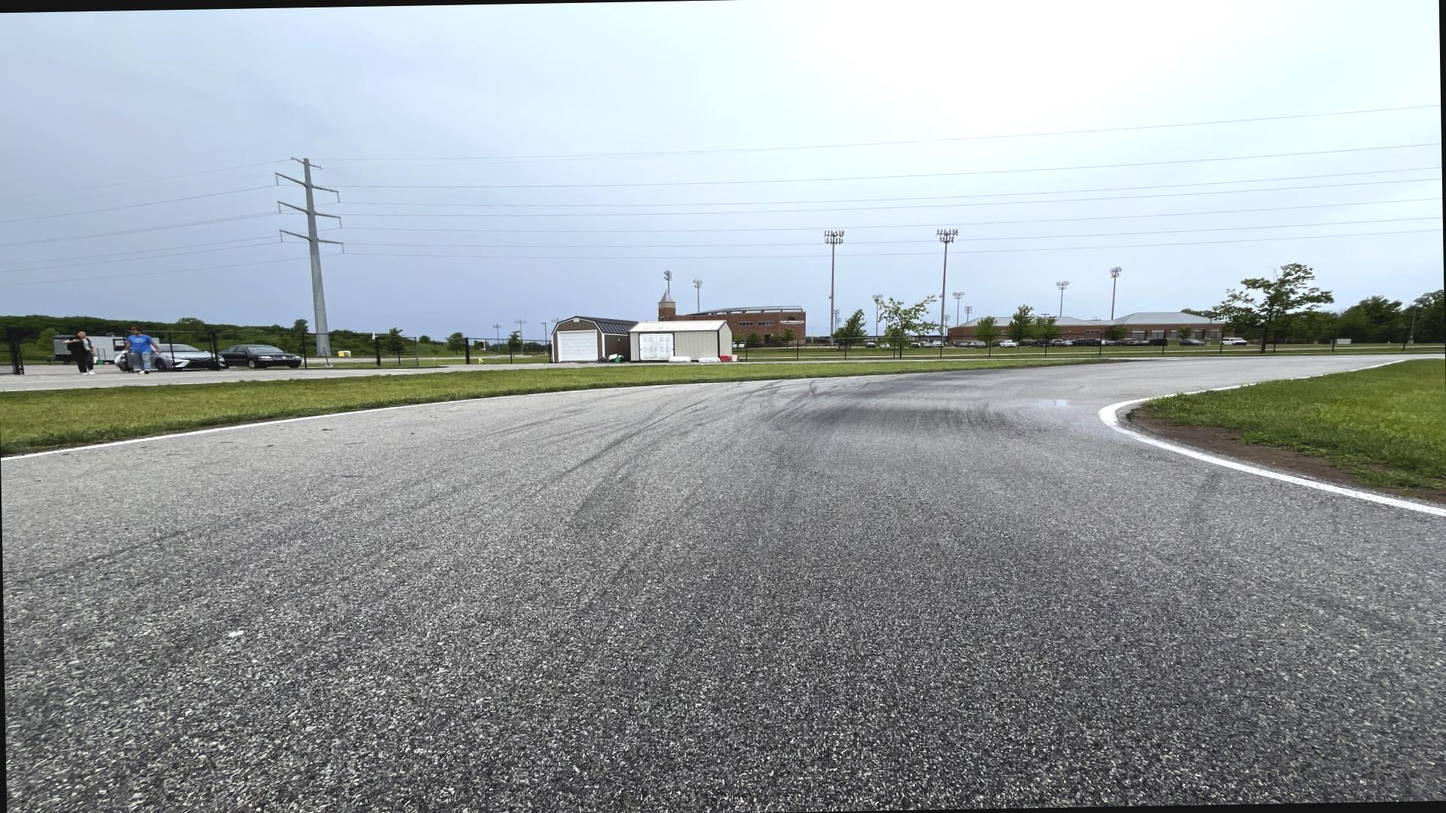white-line: (1, 369, 999, 461), (1096, 383, 1445, 521), (1281, 361, 1409, 382)
